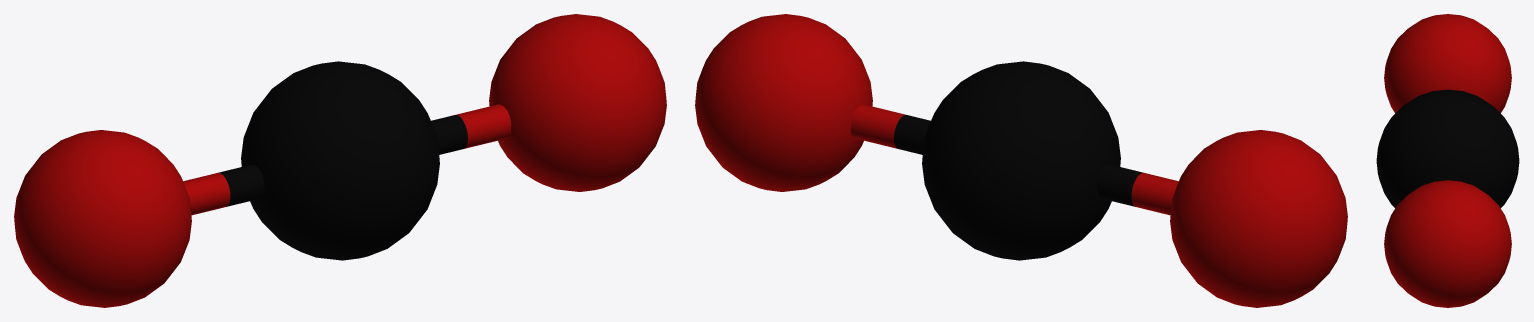
3 views of the same model, side by side, from view 1: azimuth 30°, elevation 25°; view 2: azimuth 150°, elevation 25°; view 3: azimuth 270°, elevation 25° (orthographic). The views are drawn at different scales.
Parts seen in each view (by area): view 1: vmd_mol0_rep0; view 2: vmd_mol0_rep0; view 3: vmd_mol0_rep0.
Part boxes in pixels (x1=…): vmd_mol0_rep0: x1=14, y1=14, x2=666, y2=307; vmd_mol0_rep0: x1=695, y1=14, x2=1347, y2=307; vmd_mol0_rep0: x1=1376, y1=14, x2=1519, y2=307.
Bounding box in the file's own units: 3.1 × 0.85 × 0.85.
